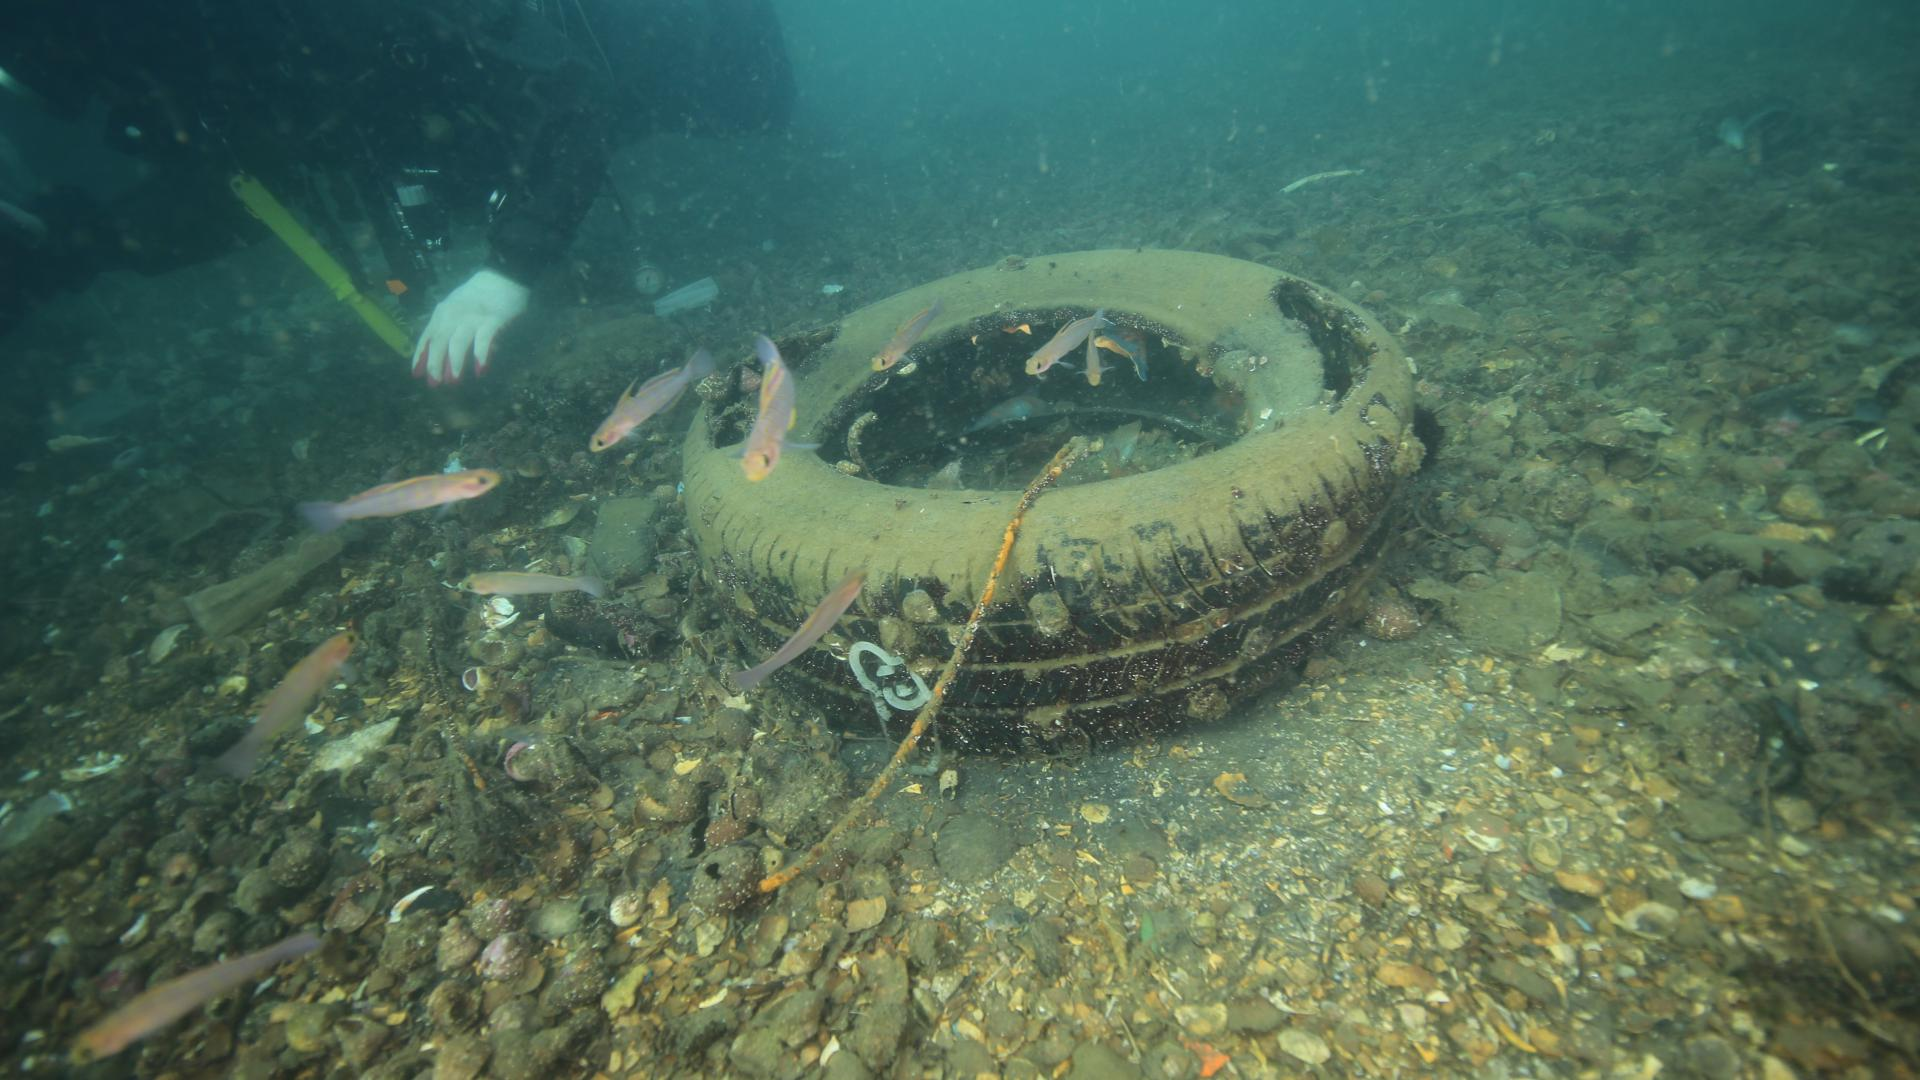tire: (675, 248, 1416, 749)
